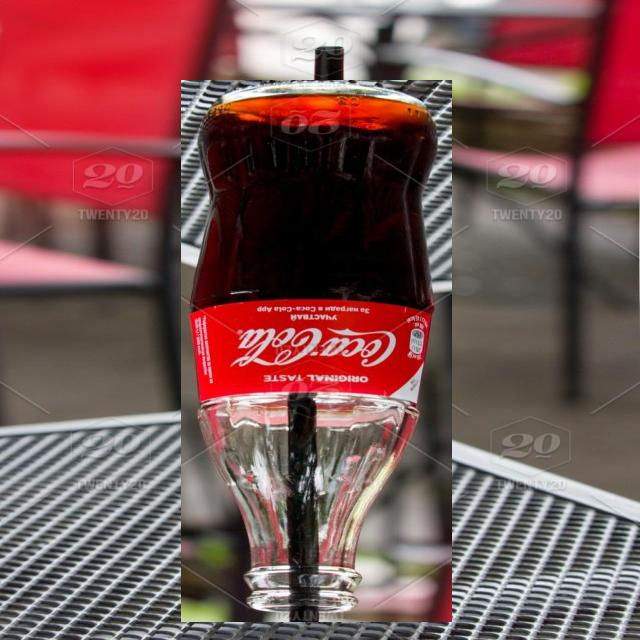coca-cola: (181, 80, 452, 622)
